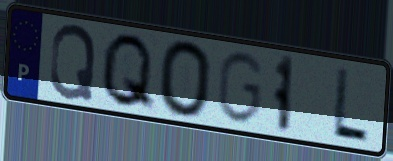1: (271, 52, 298, 138)
G: (214, 49, 267, 127)
L: (328, 64, 372, 146)
O: (157, 38, 214, 121)
Q: (98, 31, 157, 115), (47, 21, 99, 103)
